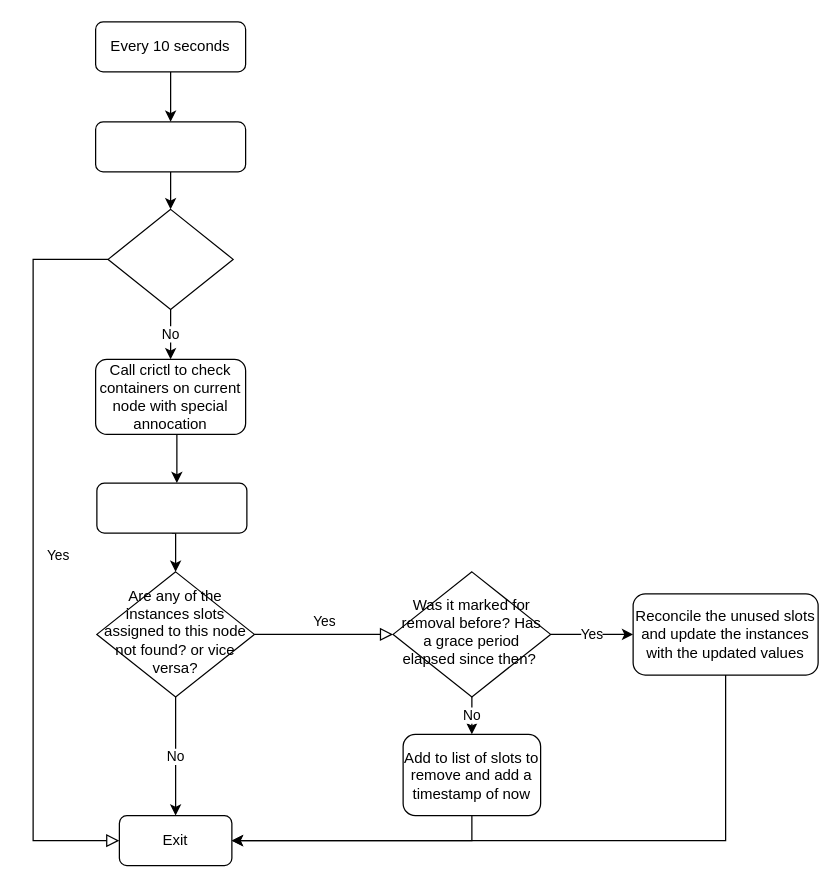
Image size: 840x888. Some labels were removed from this diagram. Here are the shapes that lost their labels. From the top down, the centre of each, then its label:
(x=170, y=146): Query API server for pods on this node
(x=170, y=258): Does any of the pods have containers that are not ready?
(x=171, y=507): Get instances from API server
